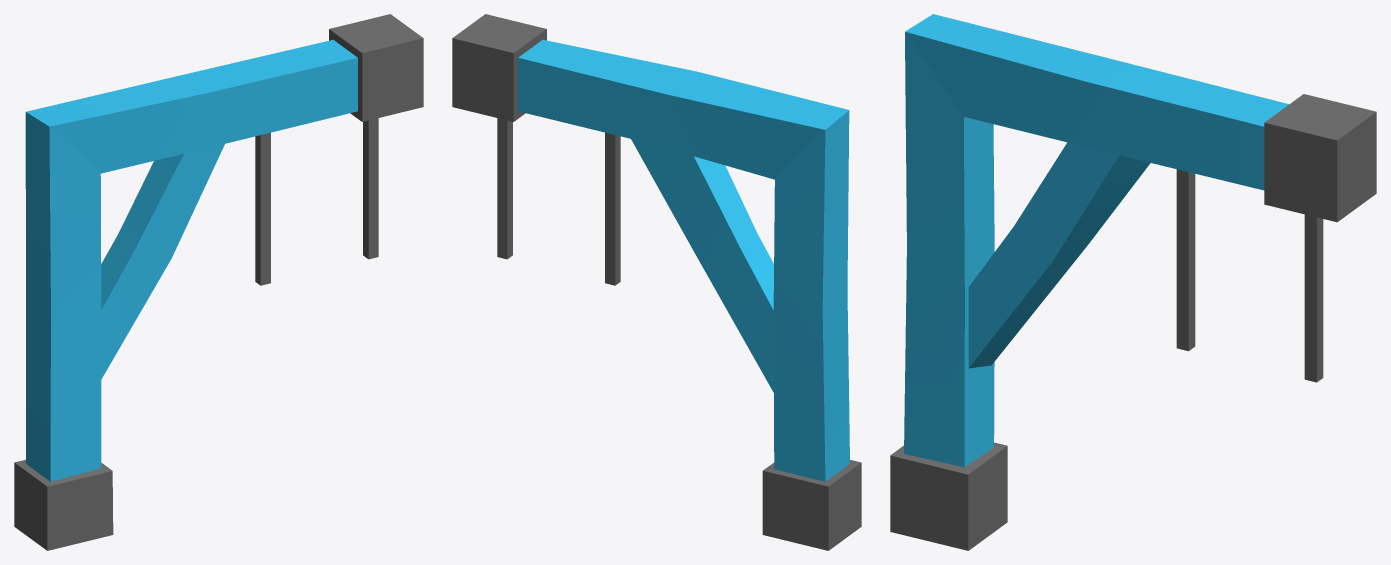
The model's file is Module_03.fbx.
3 views of the same model, side by side, from view 1: azimuth 30°, elevation 25°; view 2: azimuth 150°, elevation 25°; view 3: azimuth 330°, elevation 25° (orthographic). The views are drawn at different scales.
Visible parts, largest first — view 1: Module_03; view 2: Module_03; view 3: Module_03.
Part boxes in pixels (x1,y1,x2,y2): Module_03: (14,14,423,550); Module_03: (452,14,861,550); Module_03: (890,14,1376,550).
Size of the model in its own units: 195 by 209 by 29.77.
